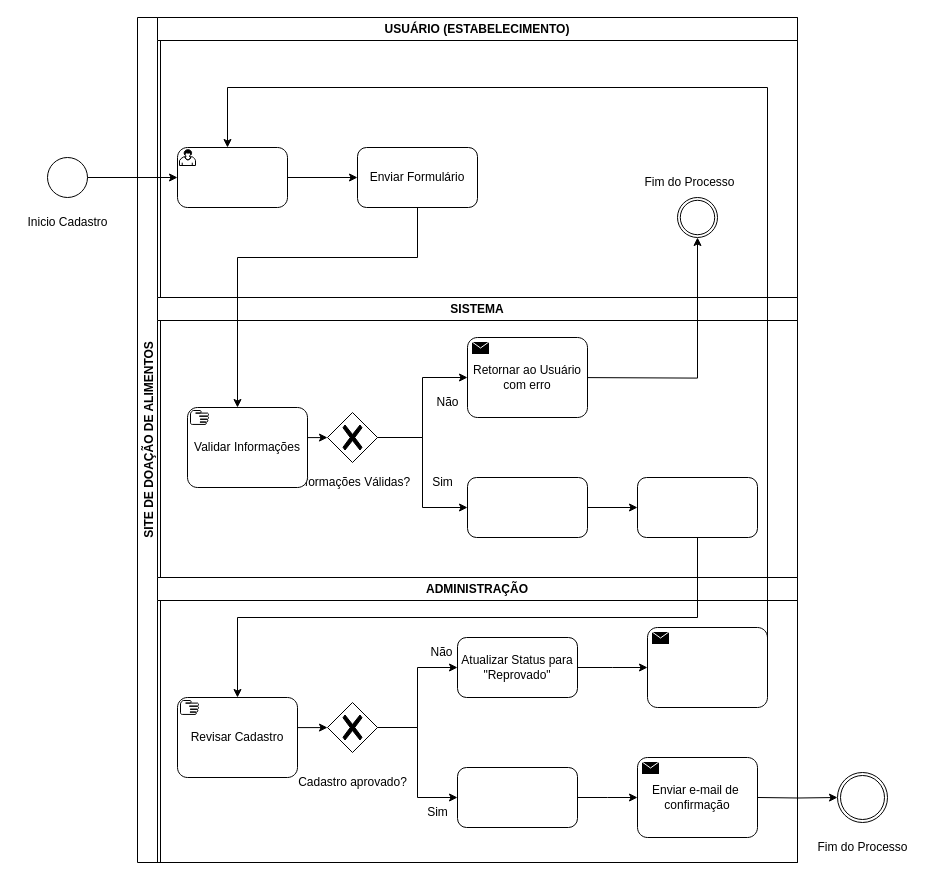
This 934x880 diagram has some shape labels left out. The shapes that lost their labels are listed below. From the top down, each one's centre as x and y in pixels, then its label:
the point at 232,177: Preencher Formulário de Cadastro
the point at 527,507: Criar Registro no Banco de Dados
the point at 697,507: Notificar Administração
the point at 707,667: Enviar e-mail de justificativa
the point at 517,797: Atualizar Status para "Aprovado"
